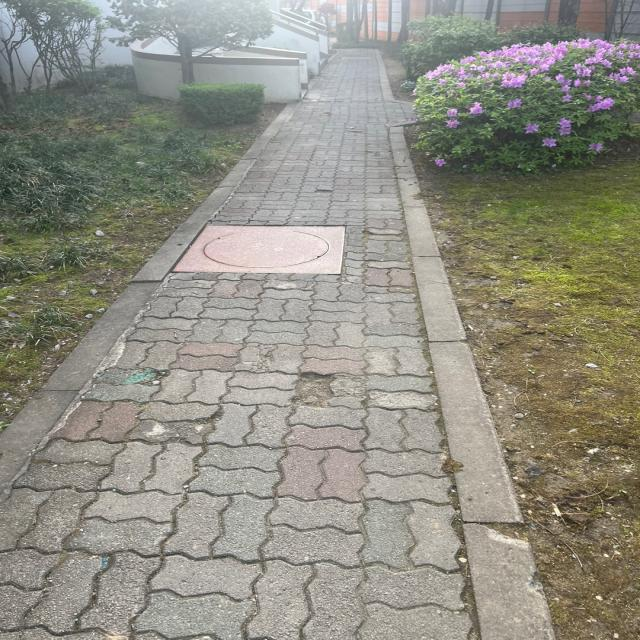manhole: (174, 225, 345, 273)
